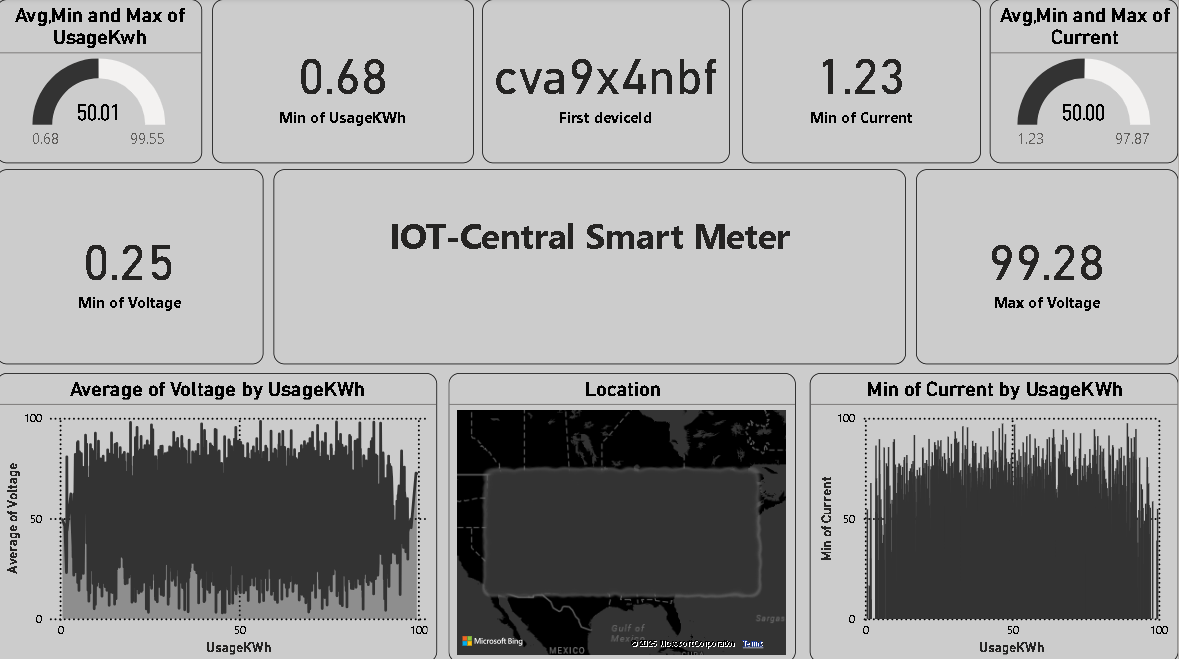

The page's visual inventory and layout, read from the dashboard file:
{"tool":"powerbi","page":{"name":"Page 1","canvas":[1280,720],"ordinal":0},"visuals":[{"type":"map","title":"Location","fields":{"Y":["Gold.Latitude"],"X":["Gold.Longitude"]},"box":[489.9,406,376.2,314],"z":0},{"type":"areaChart","fields":{"Category":["Gold.UsageKWh"],"Y":["Avg(Gold.Voltage)"]},"box":[0,406,477.7,314],"z":1000},{"type":"clusteredColumnChart","fields":{"Y":["Min(Gold.Current)"],"Category":["Gold.UsageKWh"]},"box":[881,406,399.2,314],"z":2000},{"type":"card","fields":{"Values":["Min(Gold.deviceId)"]},"box":[526.5,1.4,268,177.3],"z":2001},{"type":"card","fields":{"Values":["Min(Gold.Current)"]},"box":[808,1.4,258.5,177.3],"z":2002},{"type":"gauge","title":"Avg,Min and Max of Current","fields":{"Y":["Avg(Gold.Current)"],"MinValue":["Min(Gold.Current)"],"MaxValue":["Max(Gold.Current)"]},"box":[1075.9,1.4,204.4,177.3],"z":2003},{"type":"card","fields":{"Values":["Min(Gold.UsageKWh)"]},"box":[234.1,1.4,282.9,177.3],"z":2004},{"type":"gauge","title":"Avg,Min and Max of UsageKwh","fields":{"Y":["Avg(Gold.UsageKWh)"],"MinValue":["Min(Gold.UsageKWh)"],"MaxValue":["Max(Gold.UsageKWh)"]},"box":[0,1.4,223.3,177.3],"z":2005},{"type":"textbox","box":[300.4,185.4,684.8,211.1],"z":2006},{"type":"card","fields":{"Values":["Min(Gold.Voltage)"]},"box":[0,185.4,289.6,211.1],"z":2007},{"type":"card","fields":{"Values":["Max(Gold.Voltage)"]},"box":[996.1,185.4,284.2,211.1],"z":2008}]}

Visuals, with their boxes in screenshot pixels (x1, y1, x2, y2), scaled from the page's 1280x720 canvas onto the 1179x659 screenshot:
"Location" map: [451,372,798,658]
areaChart - Gold.UsageKWh x Avg(Gold.Voltage): [0,372,440,658]
clusteredColumnChart - Min(Gold.Current) x Gold.UsageKWh: [811,372,1178,658]
card - Min(Gold.deviceId): [485,1,732,164]
card - Min(Gold.Current): [744,1,982,164]
"Avg,Min and Max of Current" gauge: [991,1,1178,164]
card - Min(Gold.UsageKWh): [216,1,476,164]
"Avg,Min and Max of UsageKwh" gauge: [0,1,206,164]
textbox: [277,170,907,363]
card - Min(Gold.Voltage): [0,170,267,363]
card - Max(Gold.Voltage): [918,170,1178,363]
